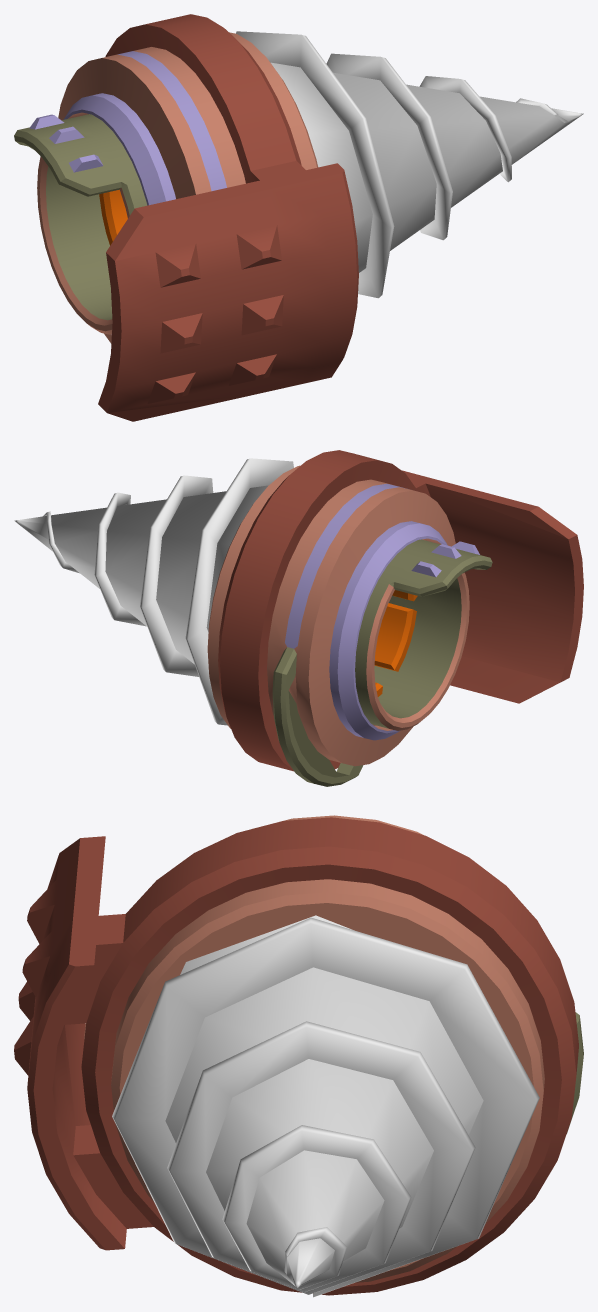
File: khoan.fbx
3 views of the same model, one above another, from view 1: azimuth 30°, elevation 25°; view 2: azimuth 150°, elevation 25°; view 3: azimuth 270°, elevation 25° (orthographic). The views are drawn at different scales.
Visible parts, largest first — view 1: Spiral.005; view 2: Spiral.005; view 3: Spiral.005.
Boxes of the visible parts, x1,y1,x2,y2 form: Spiral.005: (14,14,583,421); Spiral.005: (14,450,583,786); Spiral.005: (14,815,583,1297).
Bounding box in the file's own units: 29.31 × 16.91 × 19.46.
